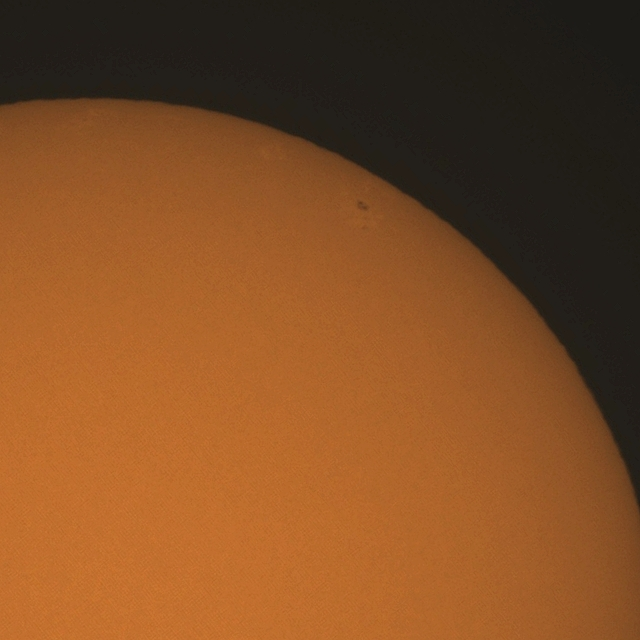sunspot: (357, 200, 370, 213)
